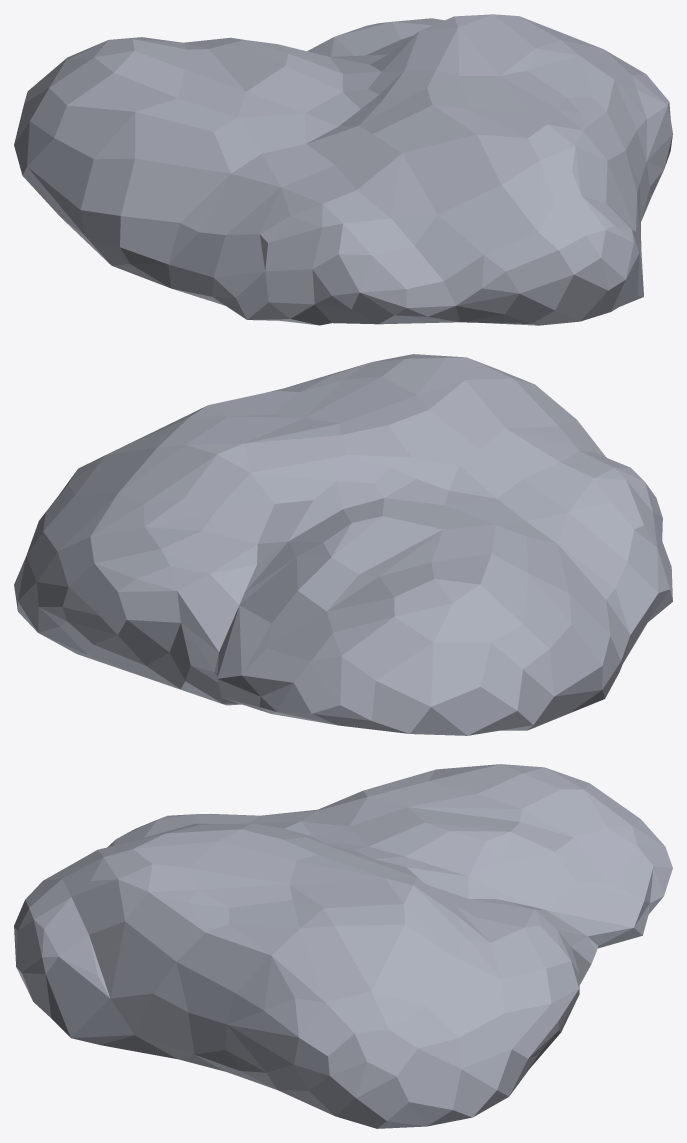
Rendered from rock_2.fbx.
The picture shows the model from 3 angles, top to bottom: view 1: azimuth 30°, elevation 25°; view 2: azimuth 150°, elevation 25°; view 3: azimuth 270°, elevation 25°; orthographic projection. The views are drawn at different scales.
Parts seen in each view (by area): view 1: rock_2; view 2: rock_2; view 3: rock_2.
Part boxes in pixels (x1,y1,x2,y2): rock_2: [14, 14, 672, 325]; rock_2: [14, 354, 672, 735]; rock_2: [14, 764, 672, 1128].
Bounding box in the file's own units: 478 × 153 × 510.
